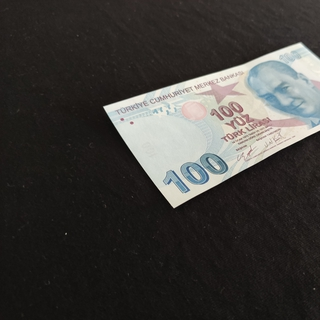100TLFront: (102, 41, 320, 209)
